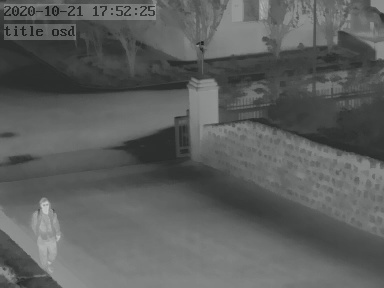person: (31, 198, 60, 269)
